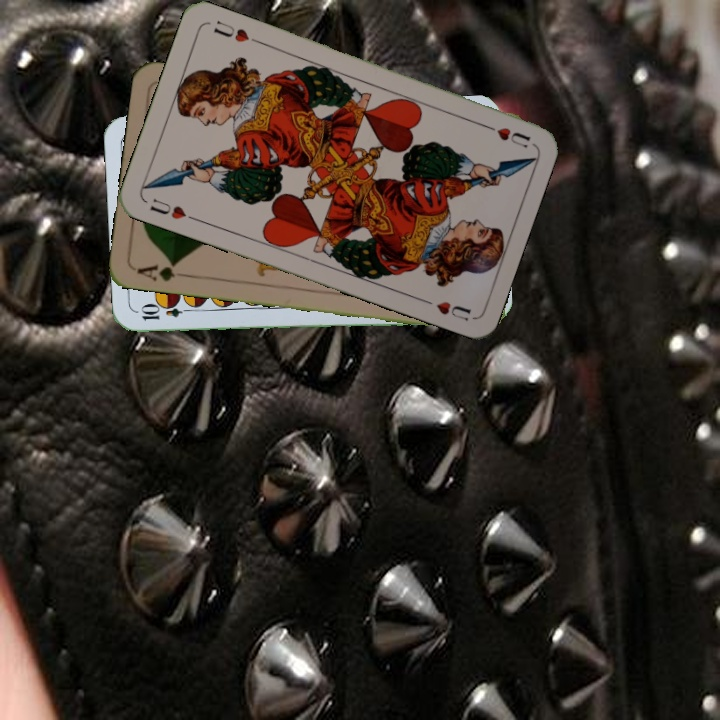E10: (137, 302, 196, 323)
GA: (133, 258, 192, 284)
HU: (477, 119, 533, 150), (145, 194, 199, 224)
